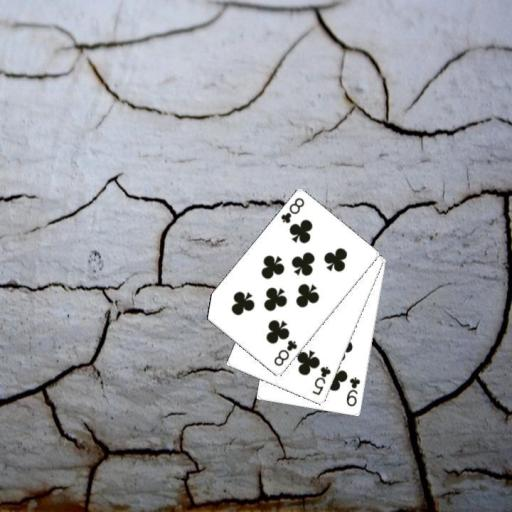5C: (309, 363, 333, 397)
8C: (270, 337, 299, 368), (277, 195, 306, 225)
9C: (343, 374, 362, 408)
